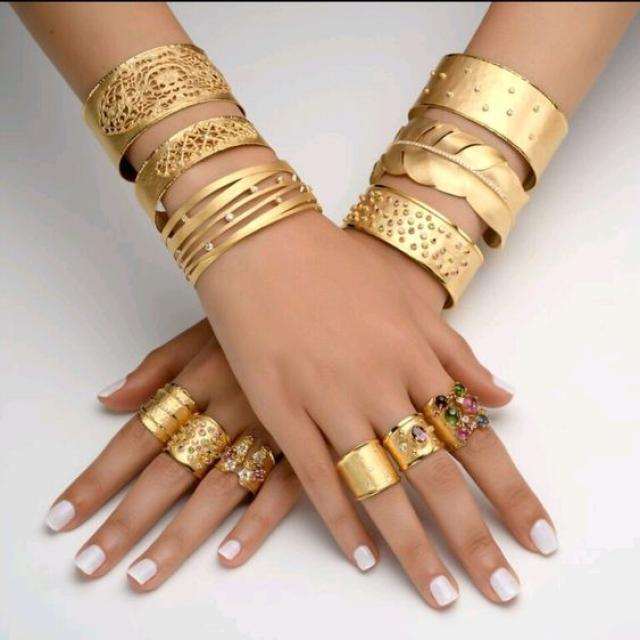Fingernail: (490, 568, 521, 602), (44, 499, 76, 531), (530, 520, 559, 555), (75, 544, 107, 575), (430, 575, 460, 607), (127, 558, 158, 584), (97, 377, 127, 397), (353, 545, 376, 571), (218, 539, 241, 561)
